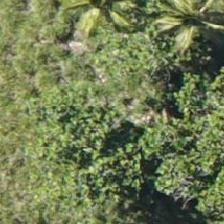coconut_tree: (138, 0, 223, 58)
